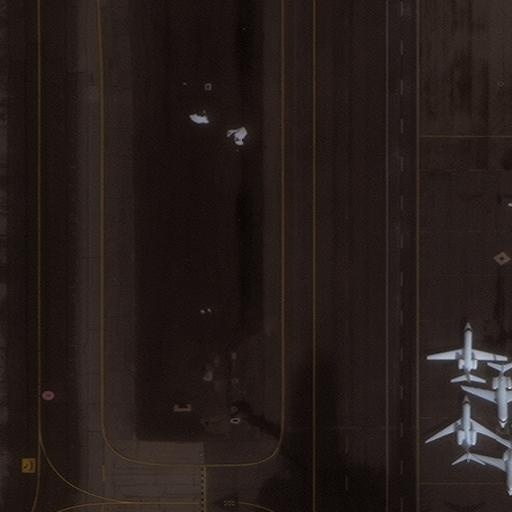Medium Civil Transport: (424, 395, 500, 463), (427, 321, 507, 382), (460, 363, 511, 427), (473, 439, 511, 496)
